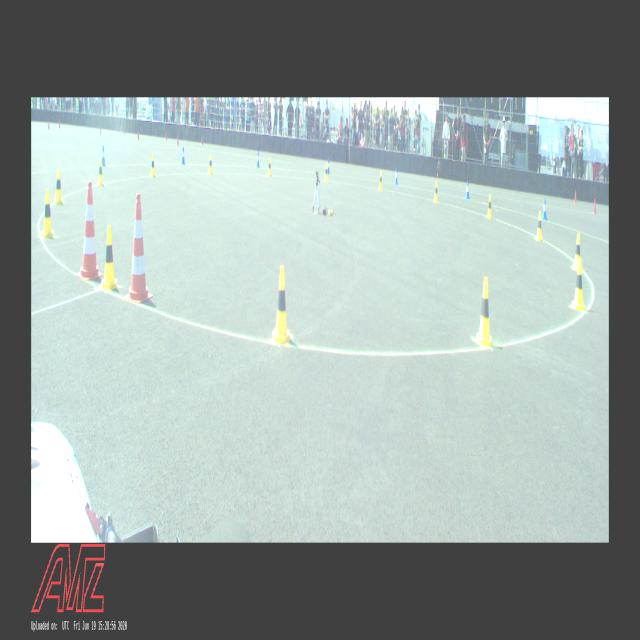blue_cone: (542, 198, 547, 220), (101, 146, 106, 166), (466, 181, 470, 199), (256, 152, 260, 168), (181, 148, 185, 164), (394, 168, 398, 184), (328, 158, 330, 174)
large_orange_cone: (124, 194, 152, 302), (76, 180, 102, 278)
unknown_cone: (592, 198, 596, 214), (574, 190, 577, 204), (48, 120, 50, 130), (100, 125, 102, 135), (137, 130, 139, 140), (177, 136, 179, 146), (123, 126, 125, 134), (165, 132, 167, 140), (59, 120, 60, 128), (202, 138, 202, 144)
yellow_cone: (270, 266, 291, 344), (474, 276, 494, 347), (101, 226, 117, 290), (571, 258, 586, 312), (42, 189, 54, 237), (54, 168, 64, 204), (572, 234, 582, 270), (97, 158, 104, 186), (536, 212, 542, 240), (150, 154, 156, 178), (208, 153, 214, 174), (487, 195, 492, 218), (378, 171, 383, 191), (267, 157, 272, 177), (434, 181, 438, 202), (324, 164, 328, 182)
